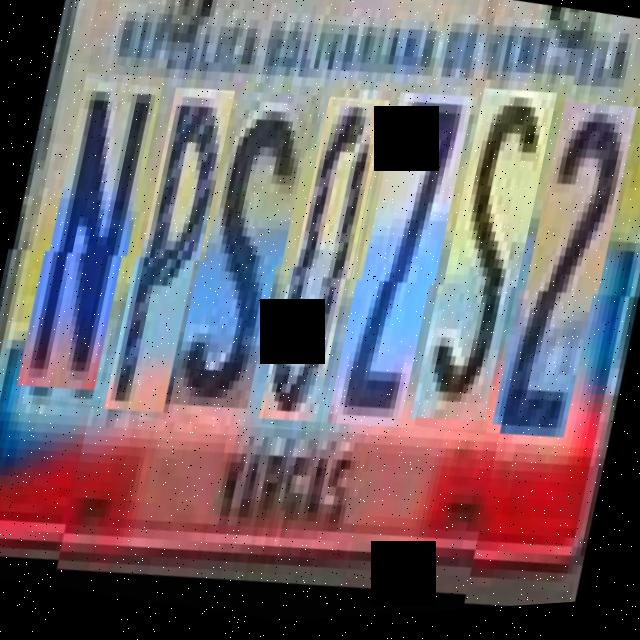0: (261, 99, 388, 439)
2: (494, 102, 636, 455)
N: (18, 75, 162, 411)
P: (108, 85, 235, 425)
S: (413, 94, 555, 447), (172, 89, 316, 425)
Z: (329, 95, 472, 449)
